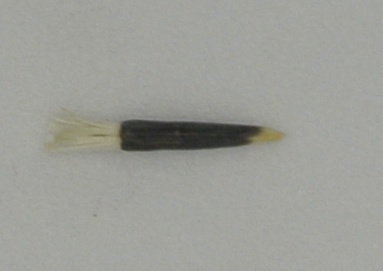เมล็ดดีติดกัน: (36, 106, 289, 154)
